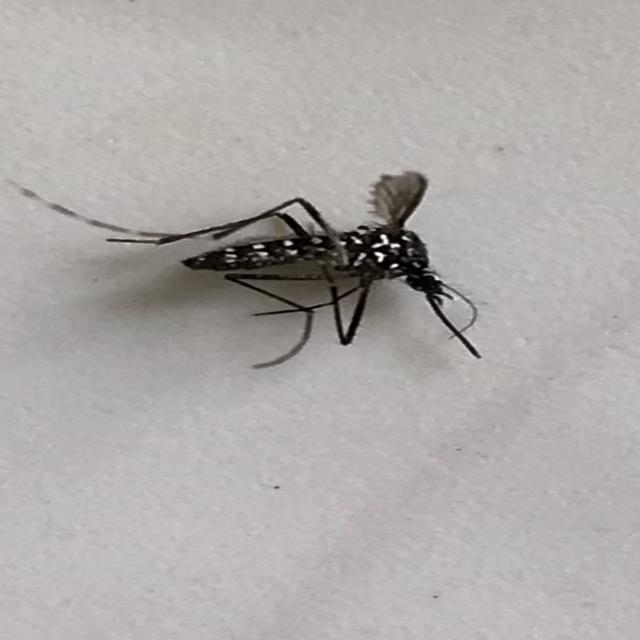albopictus: (72, 164, 505, 370)
